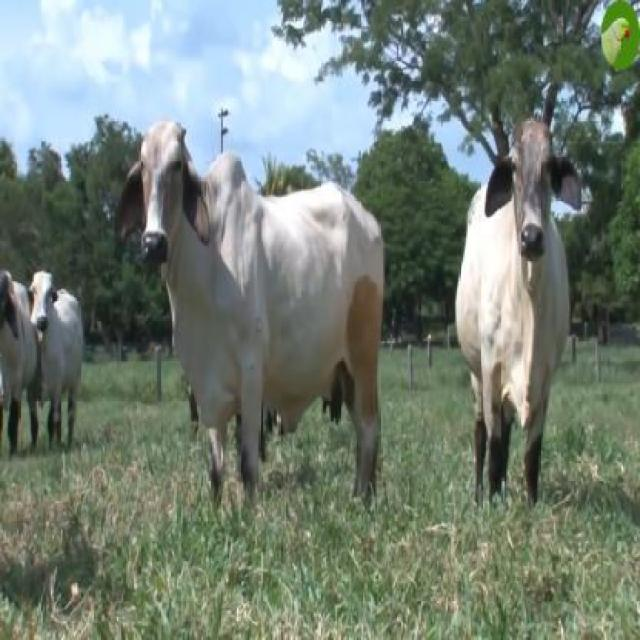Cow: (117, 122, 381, 509), (457, 122, 581, 516)
